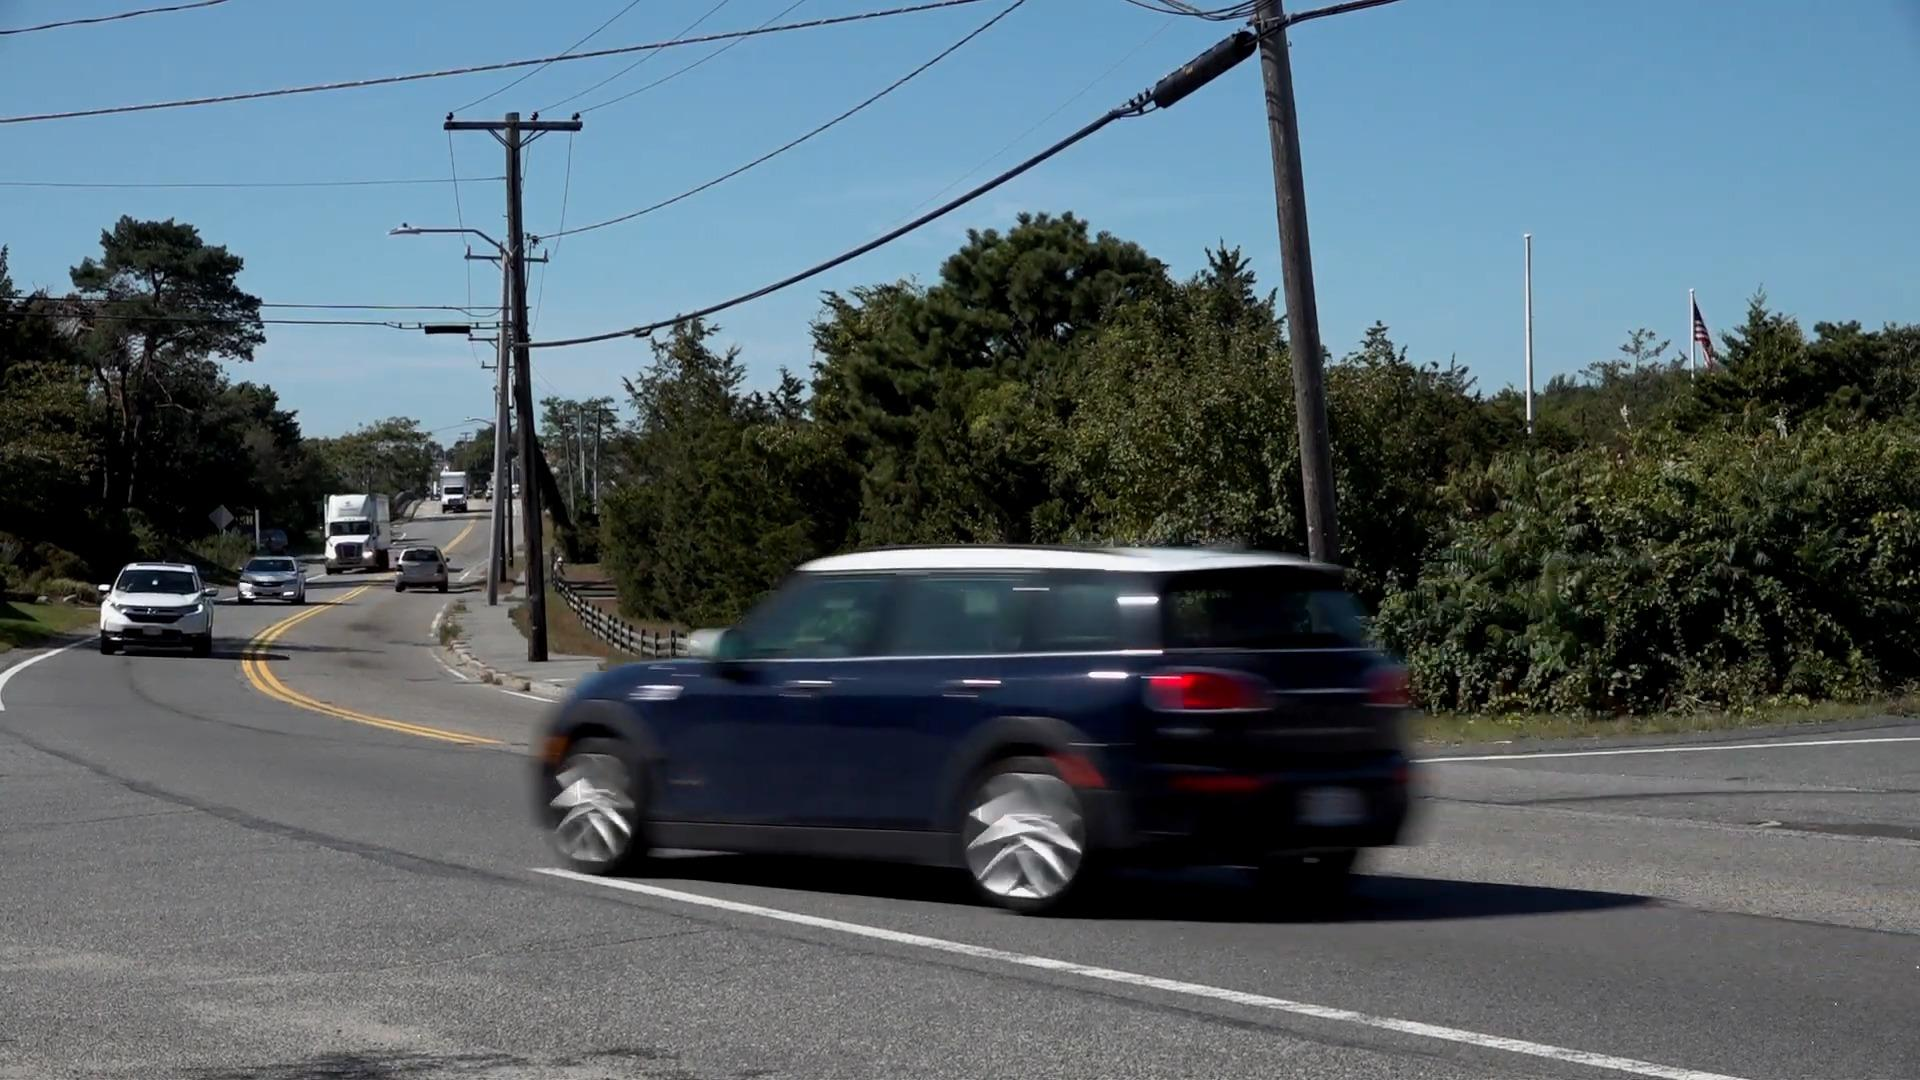sedans: (240, 551, 305, 612)
suv: (530, 541, 1427, 914), (95, 554, 214, 663)
